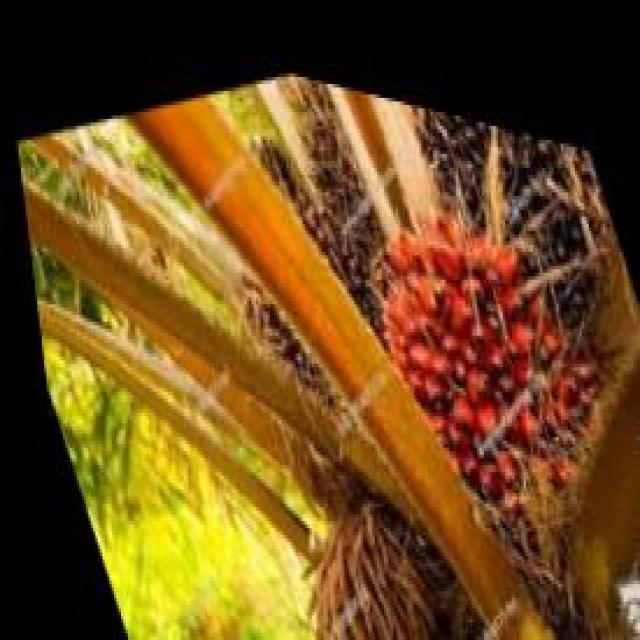Ripefruit: (335, 119, 622, 552)
